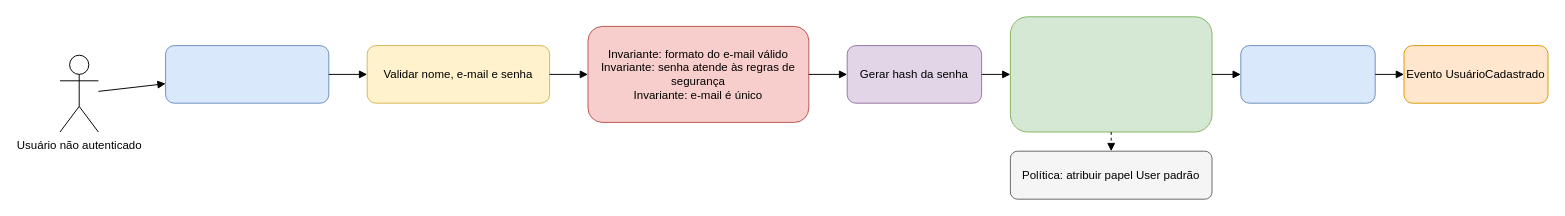
Image size: 1565x216. Some labels were removed from this diagram. Each missing label, with the centre of its shape:
"Agregado de Usuário - nome - e-mail - hash da senha - papel User padrão" goes at pixel 1110 74.
"Comando: cadastrar usuário" goes at pixel 247 74.
"Persistir usuário" goes at pixel 1307 74.
